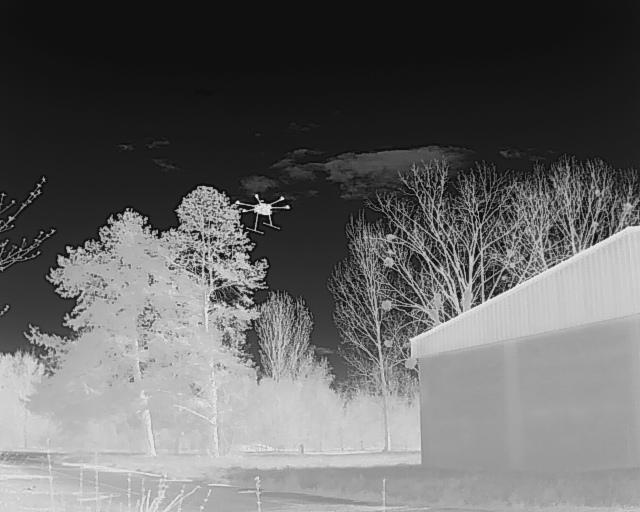drone: (232, 190, 290, 238)
